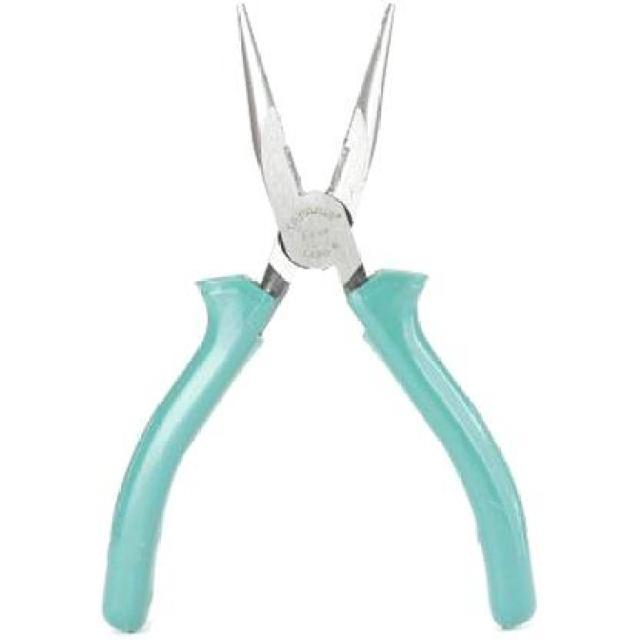pliers: (100, 0, 538, 631)
